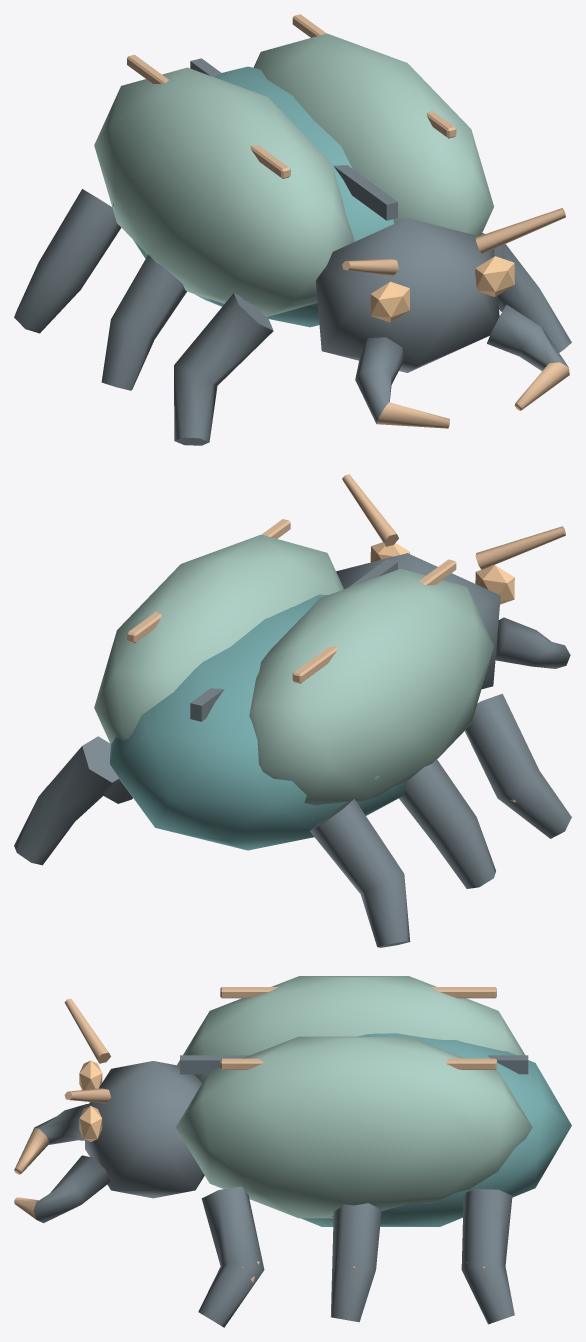
File: world_cave_beetle.fbx
The picture shows the model from 3 angles, top to bottom: view 1: azimuth 30°, elevation 25°; view 2: azimuth 150°, elevation 25°; view 3: azimuth 270°, elevation 25°; orthographic projection. The views are drawn at different scales.
Visible parts, largest first — view 1: Shell, Jaws, Leg_FrontLeft, Leg_BackLeft, Leg_MiddleLeft, Leg_FrontRight; view 2: Shell, Leg_BackLeft, Leg_FrontLeft, Leg_MiddleLeft, Leg_BackRight, Jaws; view 3: Shell, Leg_FrontRight, Leg_BackRight, Leg_MiddleRight, Jaws.
Part boxes in pixels (x1,y1,x2,y2): Shell: (94,14,565,372); Jaws: (355,304,569,428); Leg_FrontLeft: (174,293,273,445); Leg_BackLeft: (14,189,121,333); Leg_MiddleLeft: (101,254,186,390); Leg_FrontRight: (481,233,571,352); Shell: (94,474,565,850); Leg_BackLeft: (310,799,410,947); Leg_FrontLeft: (464,693,571,838); Leg_MiddleLeft: (399,759,495,888); Leg_BackRight: (14,736,120,865); Jaws: (495,617,570,668); Shell: (64,976,571,1226); Leg_FrontRight: (198,1186,264,1327); Leg_BackRight: (461,1188,514,1324); Leg_MiddleRight: (330,1203,381,1322); Jaws: (14,1103,110,1223).
Bounding box in the file's own units: 0.9 × 0.5941 × 1.25.
